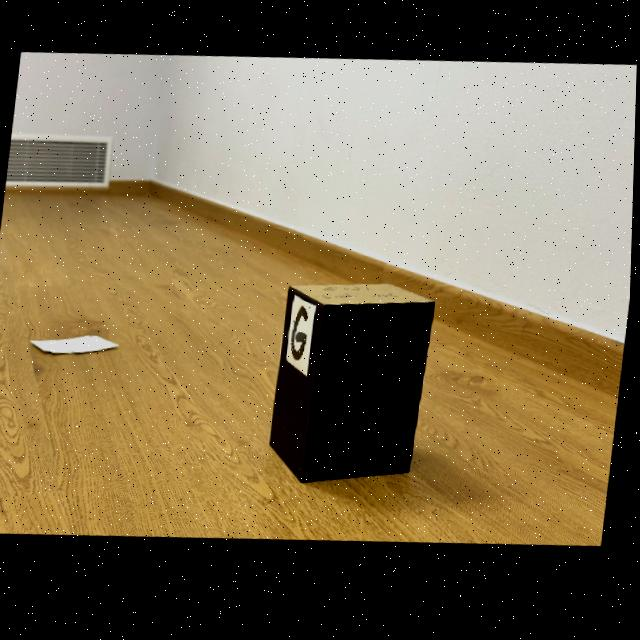G: (293, 311, 310, 364)
